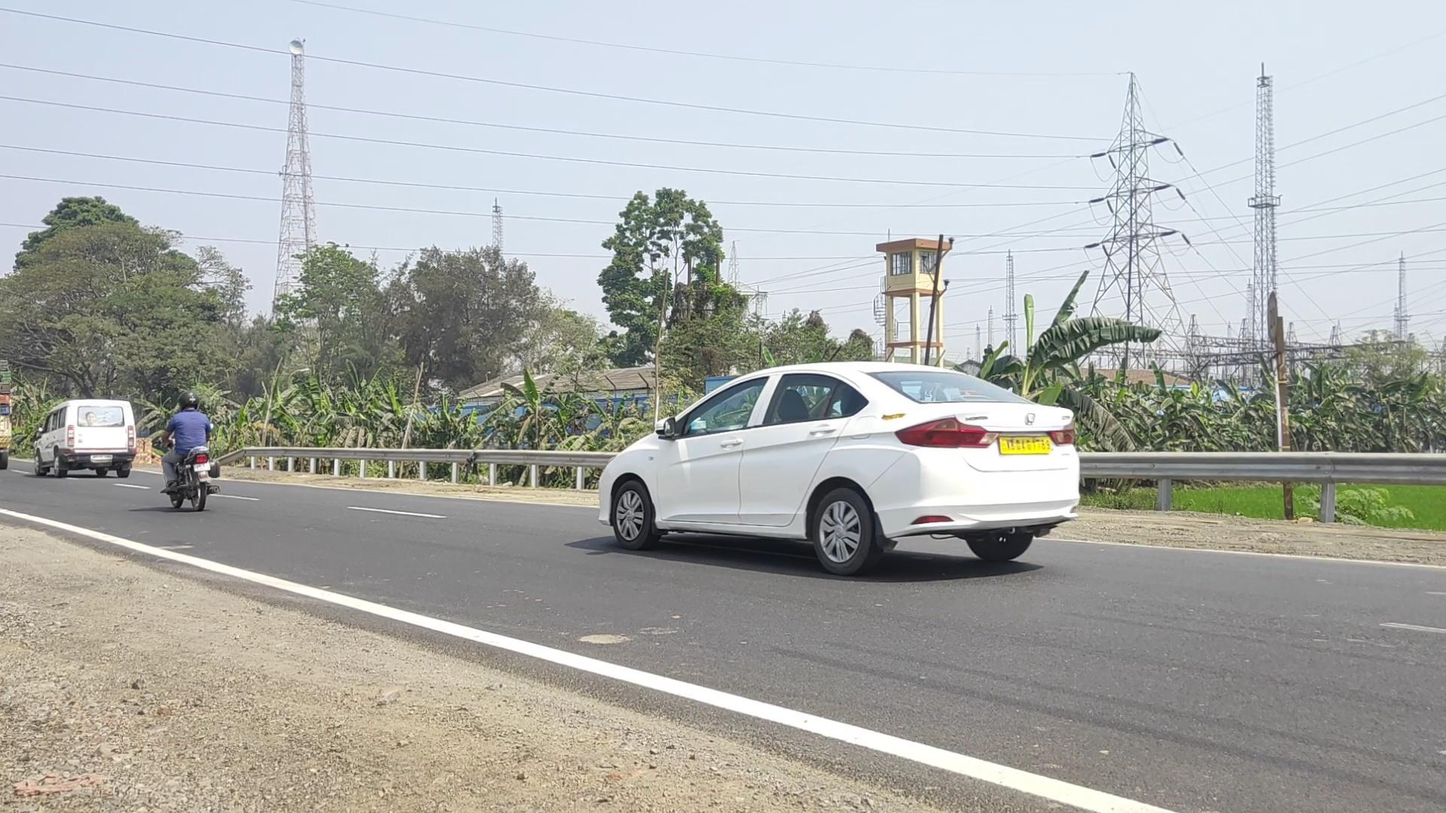bike: (152, 390, 221, 511)
car: (598, 361, 1081, 576), (35, 400, 136, 478)
